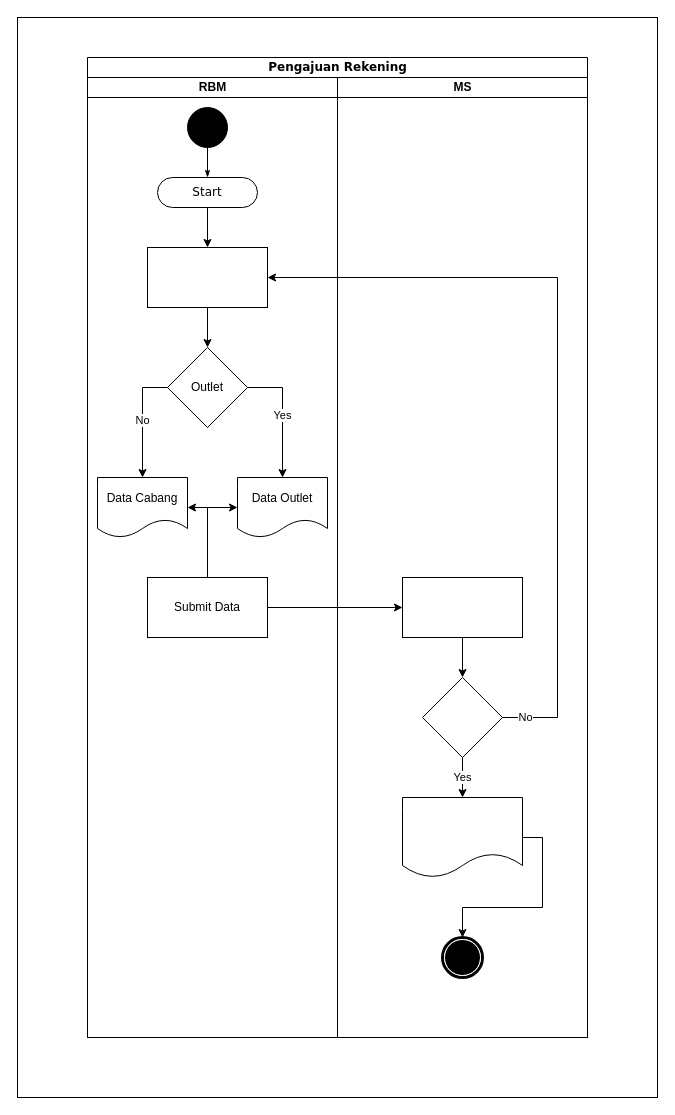
This 675x1115 diagram has some shape labels left out. Here are the shapes that lost their labels. From the top down, the centre of each, then its label:
At pixel 207 277: "Pengajuan Baru".
At pixel 462 607: "Outstanding Approval".
At pixel 462 717: "Approve".
At pixel 462 837: "Data Rekening".
